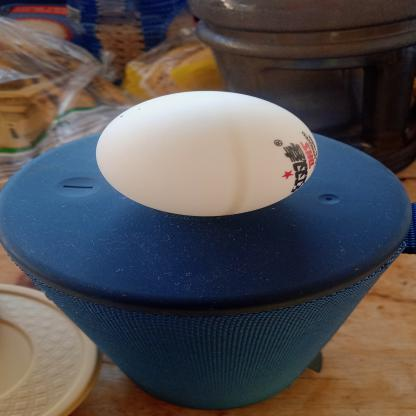Tabel Tennis: (91, 90, 324, 220)
